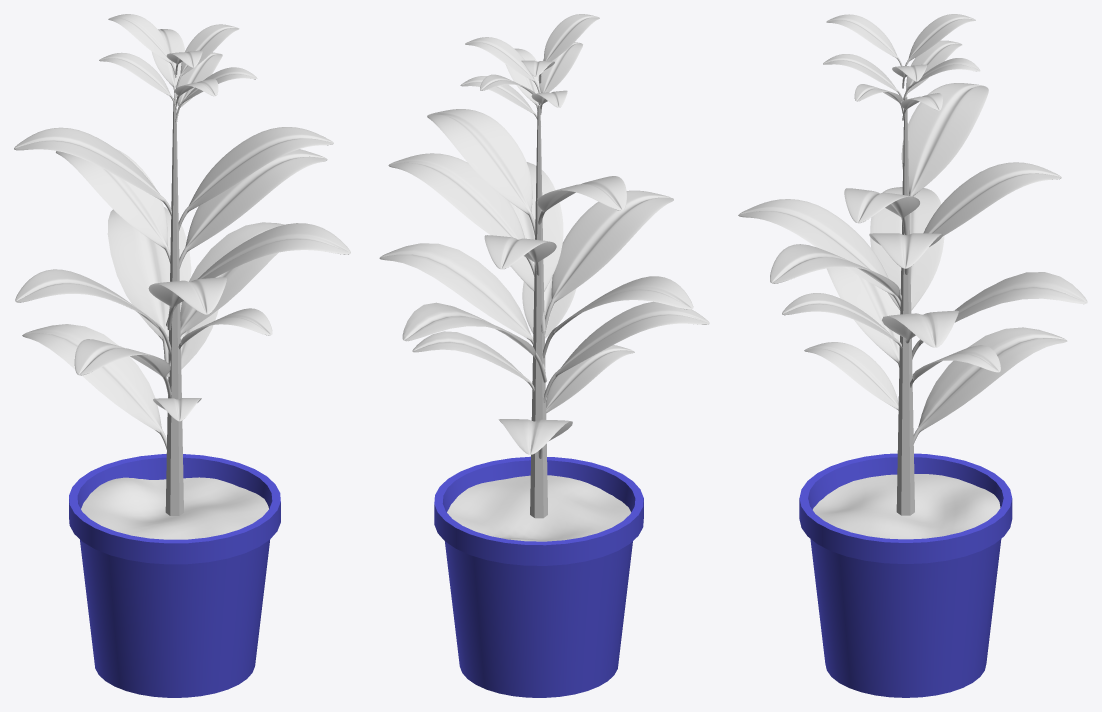
Rendered from potplant.fbx.
3 views of the same model, side by side, from view 1: azimuth 30°, elevation 25°; view 2: azimuth 150°, elevation 25°; view 3: azimuth 270°, elevation 25° (orthographic).
Visible parts, largest first — view 1: Cylinder, Circle, Plane.018, Plane.019, Plane.006, Cylinder.001, Plane.005, Plane.010, Plane.011, Plane.014, Plane.016, Plane.021 (+11 smaller); view 2: Cylinder, Circle, Plane.012, Plane.005, Plane.016, Plane.006, Cylinder.001, Plane.007, Plane.014, Plane.018, Plane.021, Plane.002 (+10 smaller); view 3: Cylinder, Circle, Plane.011, Plane.019, Plane.012, Plane.010, Cylinder.001, Plane.021, Plane.018, Plane.007, Plane.002, Plane.014 (+10 smaller).
Part boxes in pixels (bbox=[...]): Cylinder: bbox=[69, 454, 280, 697]; Circle: bbox=[81, 477, 268, 539]; Plane.018: bbox=[107, 207, 191, 377]; Plane.019: bbox=[22, 324, 166, 449]; Plane.006: bbox=[179, 149, 327, 268]; Cylinder.001: bbox=[165, 98, 183, 515]; Plane.005: bbox=[178, 127, 333, 231]; Plane.010: bbox=[56, 149, 170, 263]; Plane.011: bbox=[14, 127, 171, 216]; Plane.014: bbox=[166, 223, 350, 326]; Plane.016: bbox=[168, 222, 284, 366]; Plane.021: bbox=[15, 269, 171, 354]; Cylinder: bbox=[434, 456, 643, 697]; Circle: bbox=[447, 475, 630, 541]; Plane.012: bbox=[542, 190, 673, 334]; Plane.005: bbox=[427, 109, 535, 236]; Plane.016: bbox=[379, 243, 545, 369]; Plane.006: bbox=[388, 153, 534, 277]; Cylinder.001: bbox=[530, 104, 547, 518]; Plane.007: bbox=[543, 301, 709, 402]; Plane.014: bbox=[509, 162, 563, 331]; Plane.018: bbox=[402, 302, 546, 382]; Plane.021: bbox=[542, 276, 693, 358]; Plane.002: bbox=[546, 345, 634, 412]; Cylinder: bbox=[799, 453, 1012, 697]; Circle: bbox=[813, 474, 1000, 539]; Plane.011: bbox=[901, 83, 988, 196]; Plane.019: bbox=[913, 327, 1067, 443]; Plane.012: bbox=[738, 199, 900, 308]; Plane.010: bbox=[923, 162, 1061, 236]; Cylinder.001: bbox=[896, 96, 914, 515]; Plane.021: bbox=[870, 187, 944, 310]; Plane.018: bbox=[912, 272, 1087, 359]; Plane.007: bbox=[826, 267, 900, 367]; Plane.002: bbox=[804, 342, 898, 410]; Plane.014: bbox=[770, 244, 901, 301].
Bounding box in the file's own units: 283 × 556 × 276.
